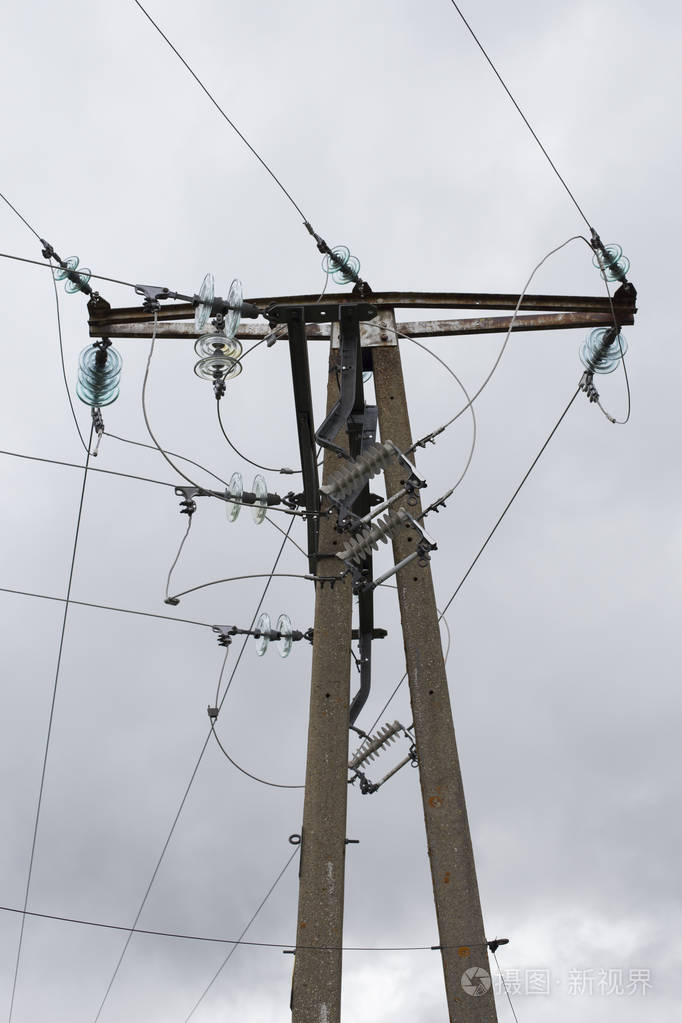insulator: (194, 274, 247, 338), (329, 441, 391, 495), (77, 342, 127, 405), (346, 509, 403, 560), (222, 471, 268, 528), (194, 332, 241, 381), (252, 611, 298, 661), (580, 329, 624, 374), (356, 723, 397, 767), (323, 247, 362, 283), (592, 246, 631, 281), (56, 259, 93, 292)
